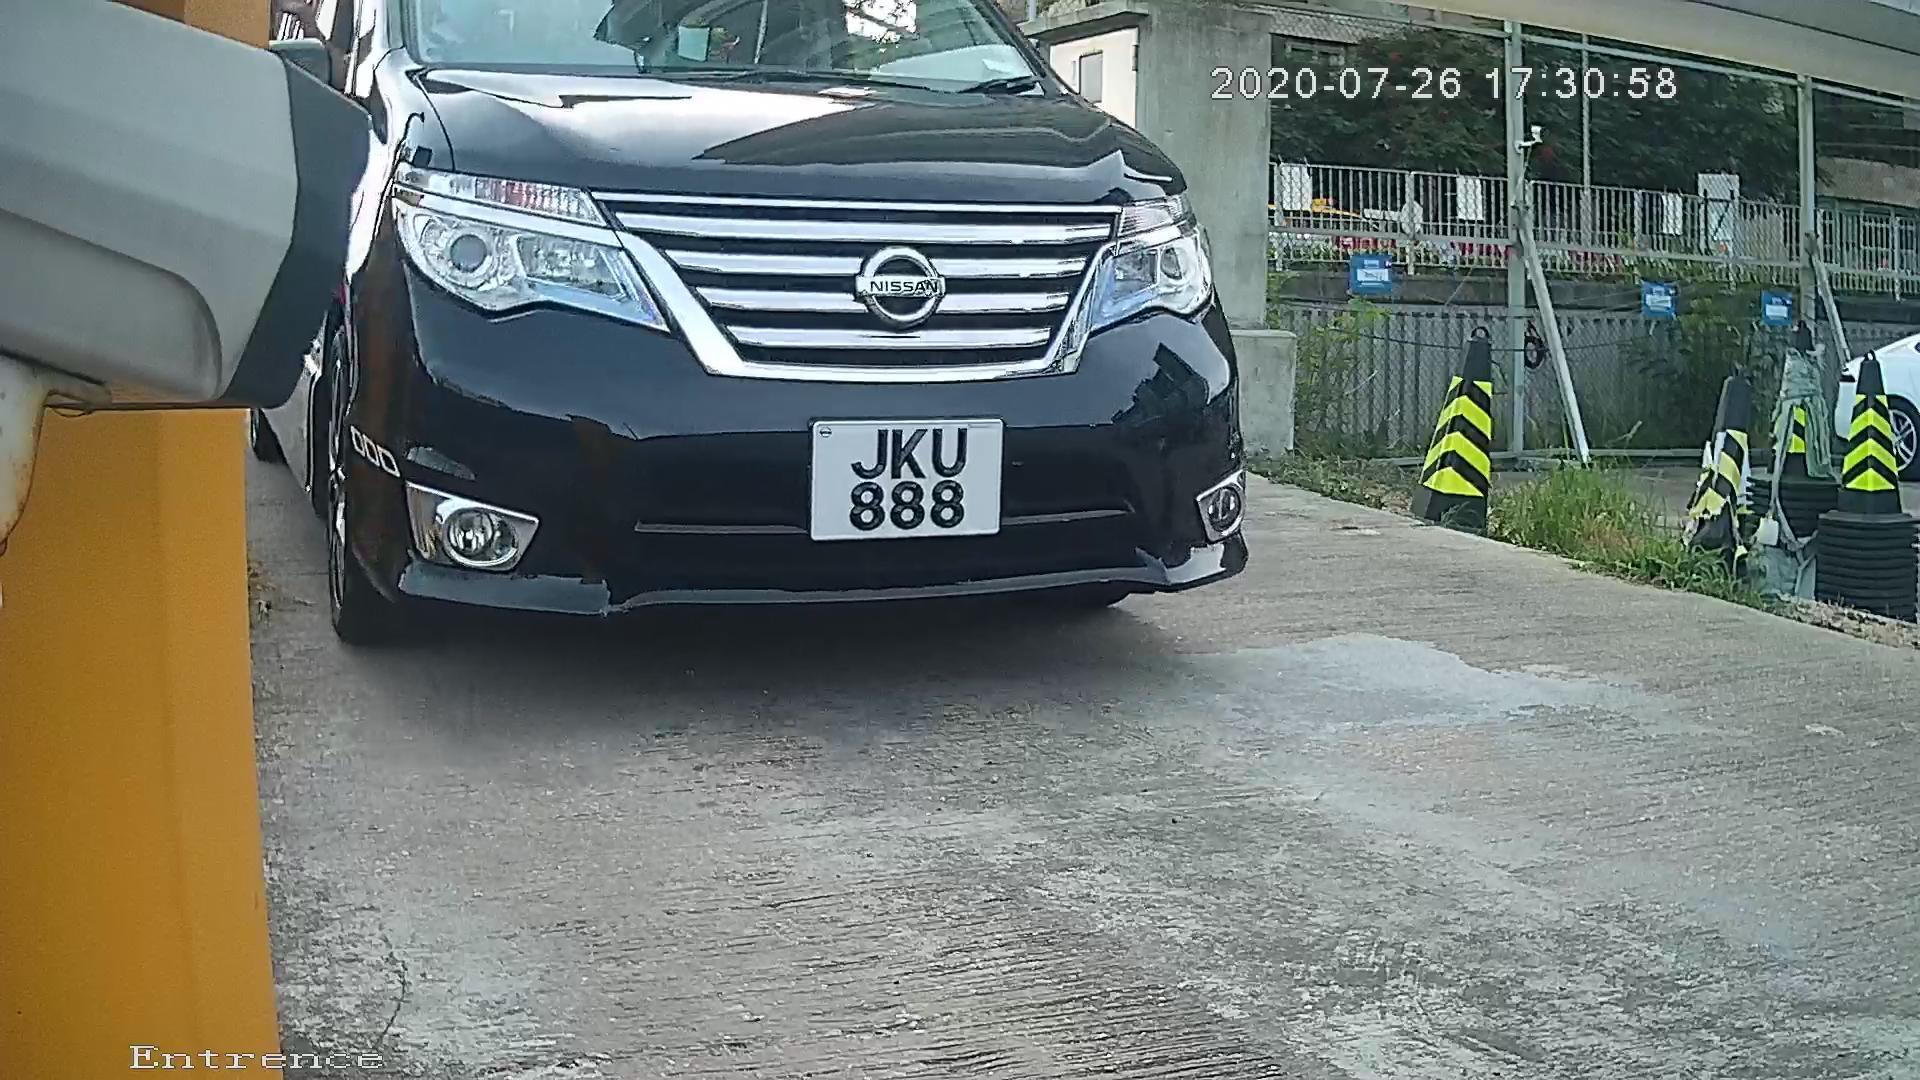privatecar: (164, 5, 1432, 700)
